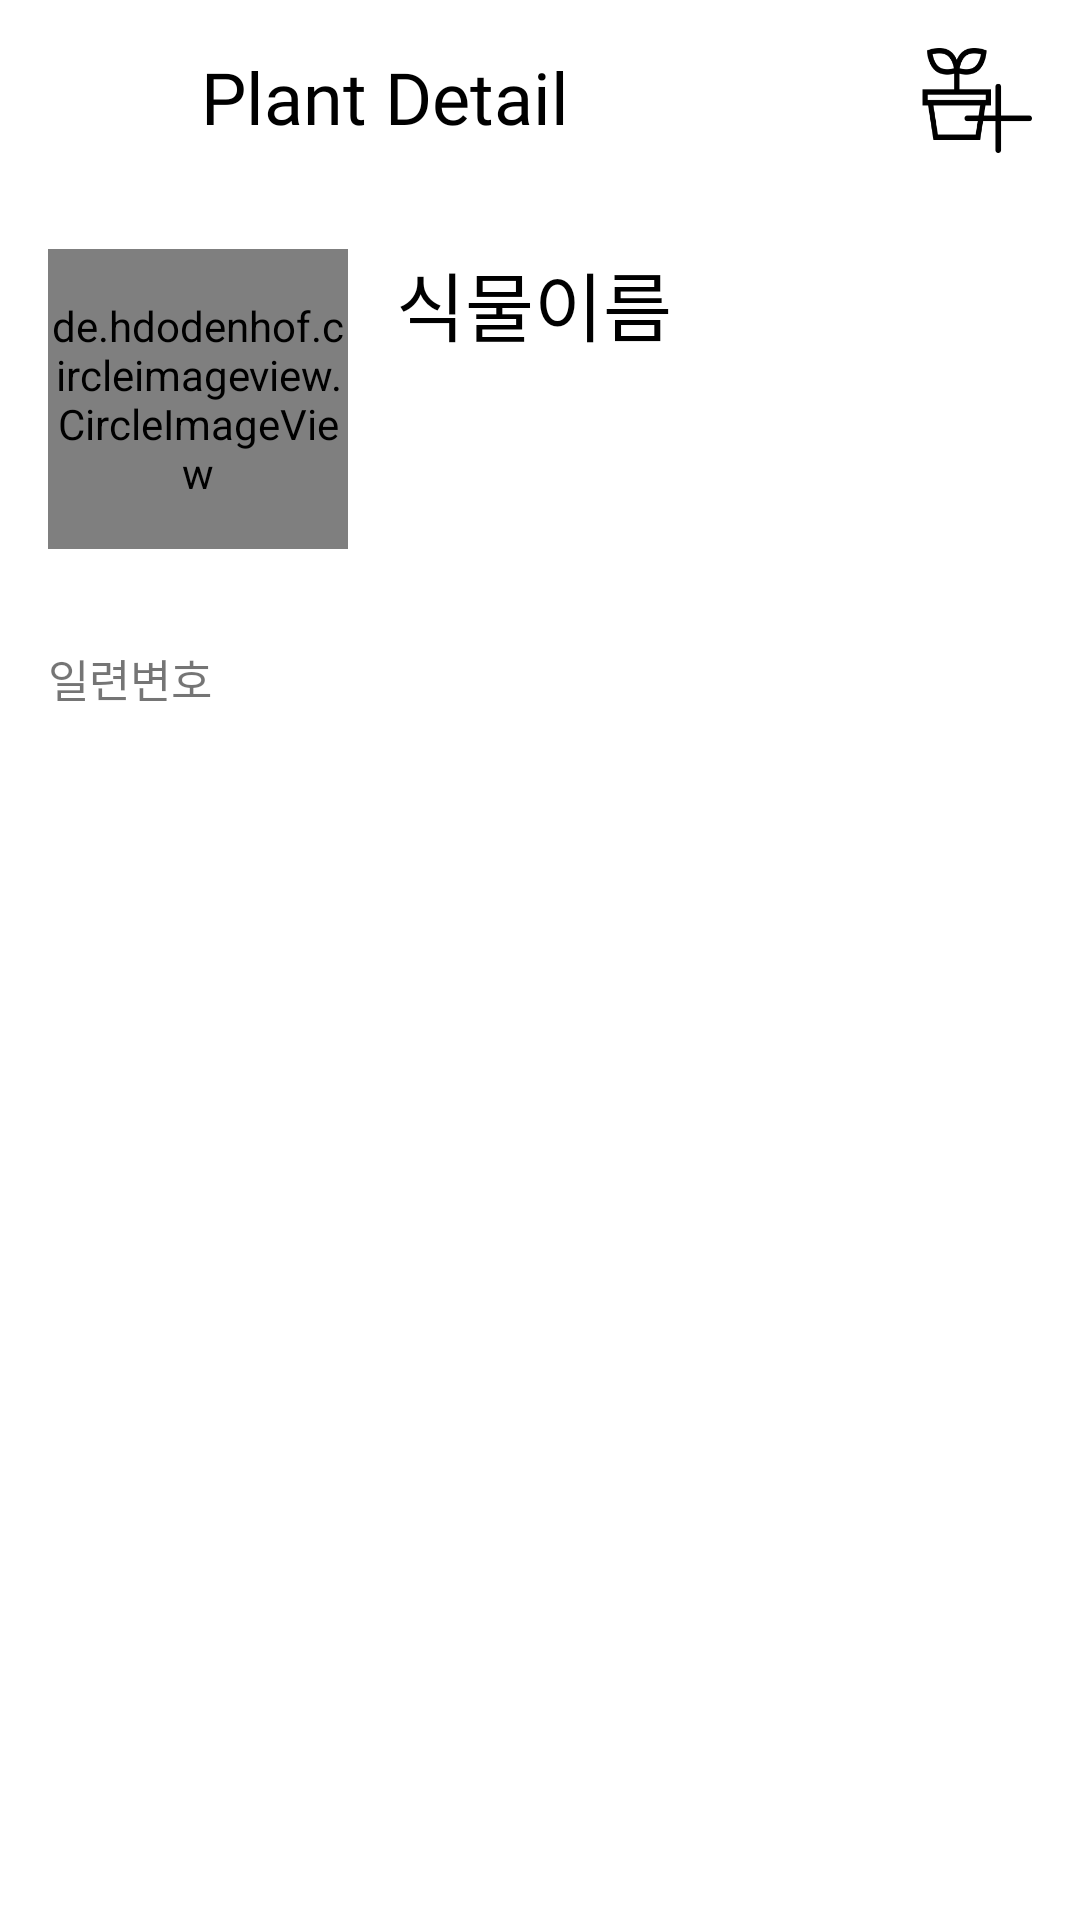

Screen size 1080 x 1920. Icon name, then its box in pixels as (x1, y1, x2, y2):
plant plus: (922, 48, 1032, 153)
